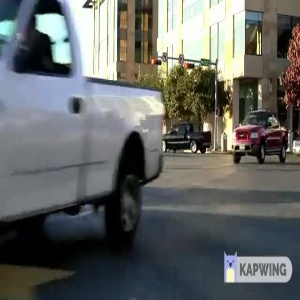truck: (1, 5, 164, 282), (225, 106, 290, 171), (156, 122, 221, 157)
